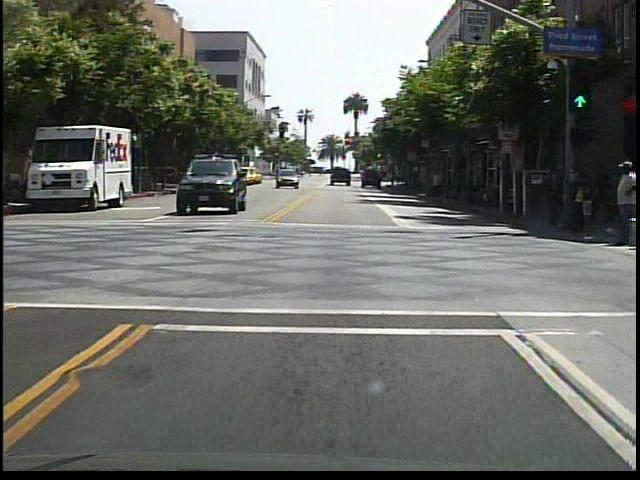person: (606, 157, 634, 248), (540, 160, 563, 234)
